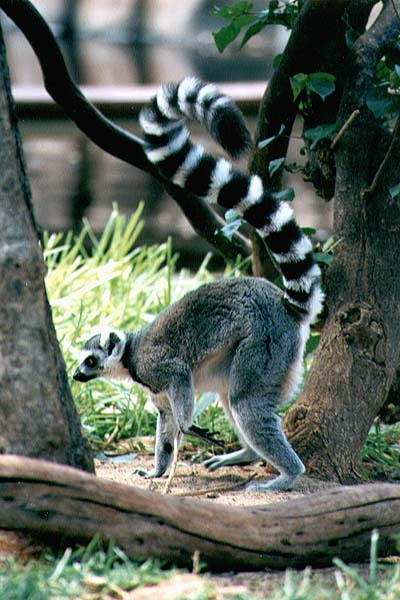cat: (70, 73, 326, 495)
